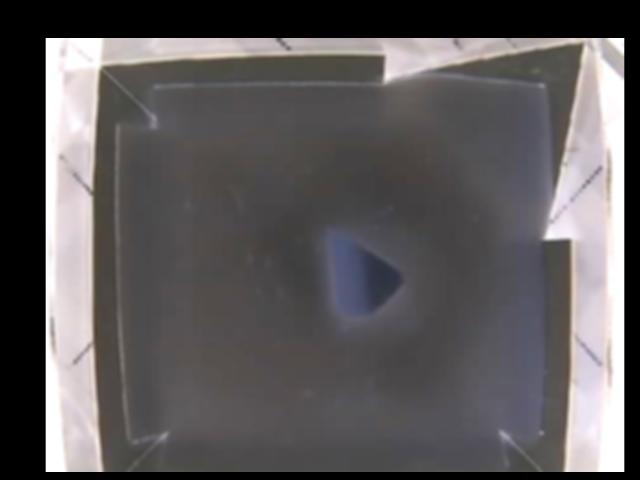Mooli: (327, 225, 405, 319)
